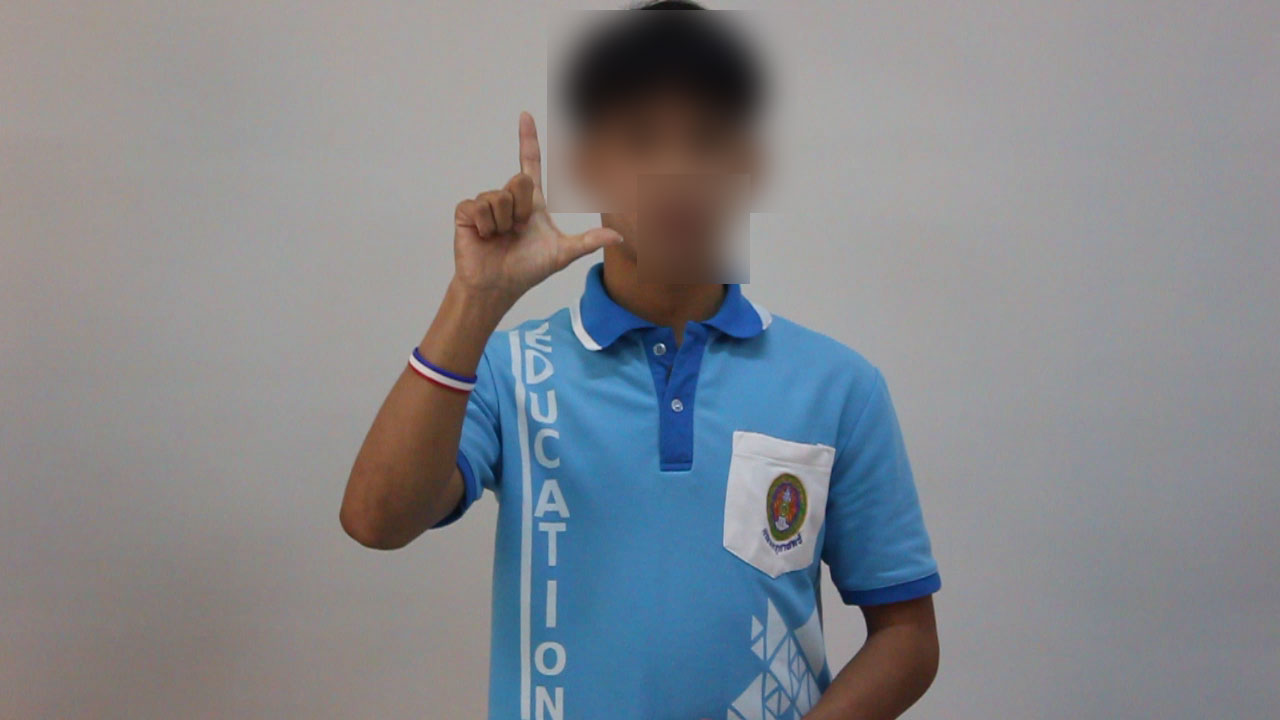lor: (421, 97, 638, 302)
